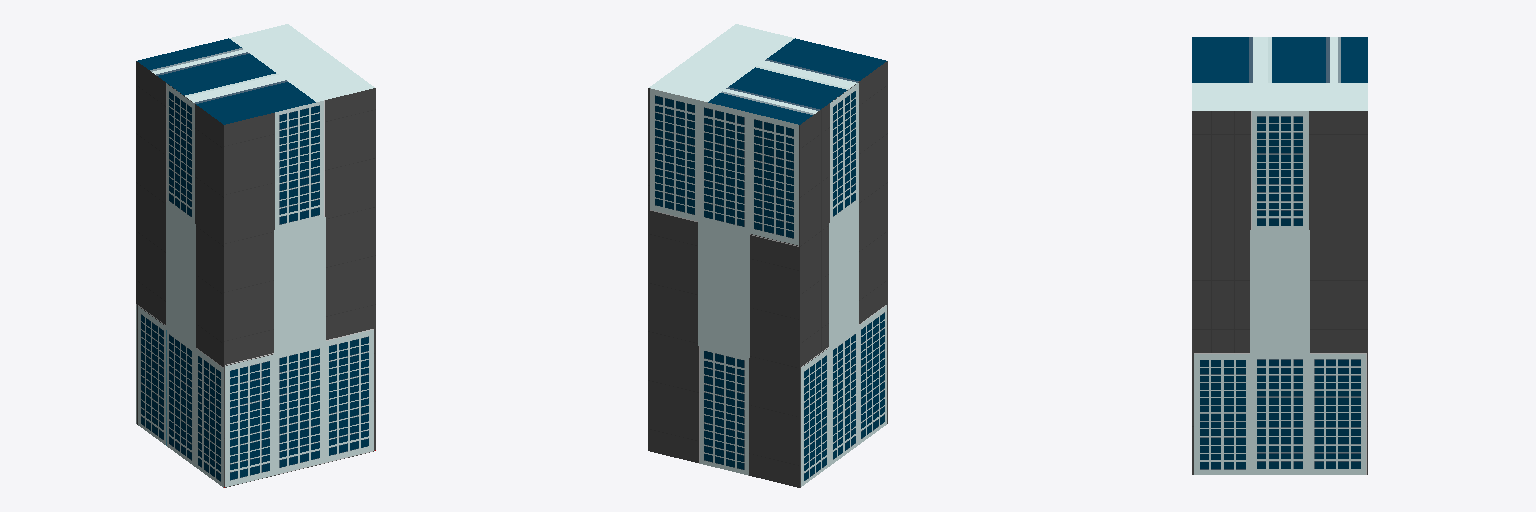
The picture shows the model from 3 angles: view 1: azimuth 30°, elevation 25°; view 2: azimuth 150°, elevation 25°; view 3: azimuth 270°, elevation 25°; orthographic projection.
Parts seen in each view (by area): view 1: pCube1; view 2: pCube1; view 3: pCube1.
Boxes of the visible parts, box(x1,y1,x2,y2) form: pCube1: box(136, 24, 375, 487); pCube1: box(648, 24, 887, 487); pCube1: box(1192, 37, 1367, 474).
Size of the model in its own units: 0.3131 by 0.7171 by 0.3131.
1 materials, 1 textured.